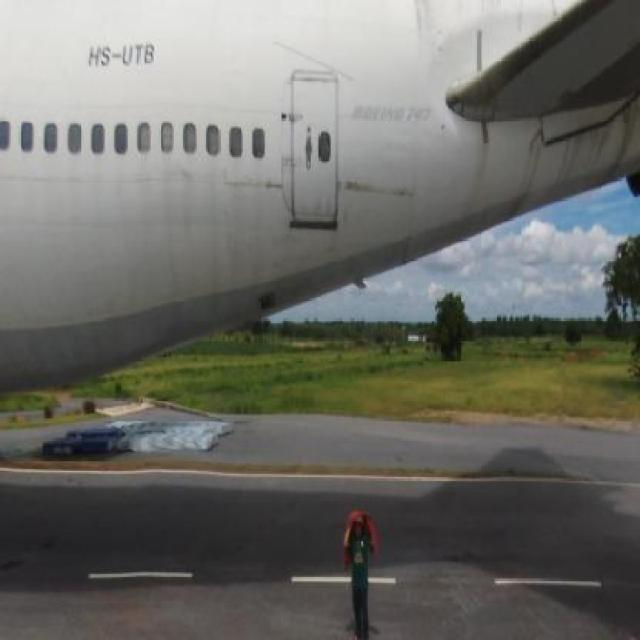Rust: (512, 99, 640, 213), (406, 1, 563, 59), (467, 114, 501, 234), (286, 66, 351, 95), (340, 164, 378, 210), (259, 168, 292, 209), (304, 188, 334, 220), (392, 173, 418, 205)
Scartch: (152, 152, 208, 282), (259, 227, 347, 276)
